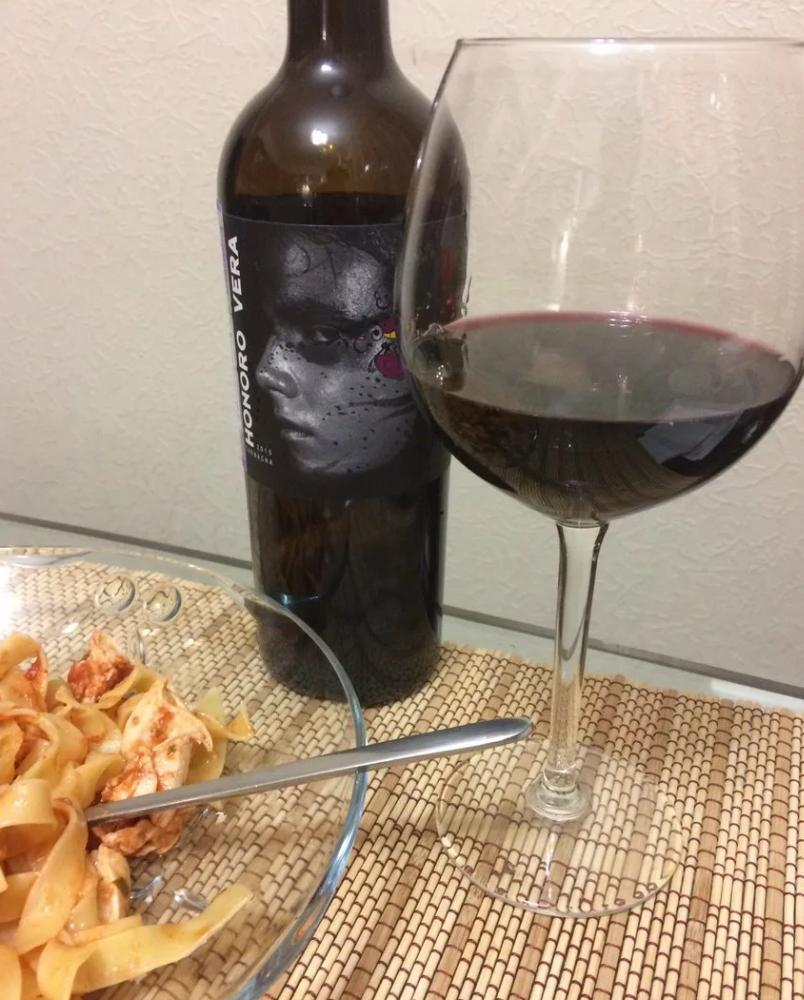wine bottle: (220, 0, 470, 710)
wine label: (231, 211, 462, 504)
